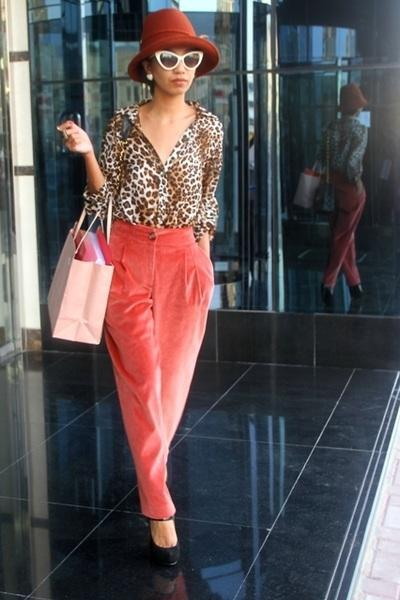bag: (38, 187, 147, 344)
hat: (127, 12, 229, 83)
pants: (98, 228, 213, 520)
shirt: (83, 100, 223, 242)
shoe: (166, 557, 195, 583)
sunglass: (132, 40, 202, 83)
